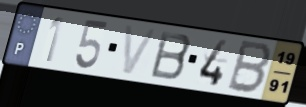1: (45, 16, 65, 64)
4: (196, 38, 228, 89)
5: (73, 19, 110, 71)
B: (224, 38, 275, 96), (148, 29, 194, 83)
V: (121, 23, 160, 77)
